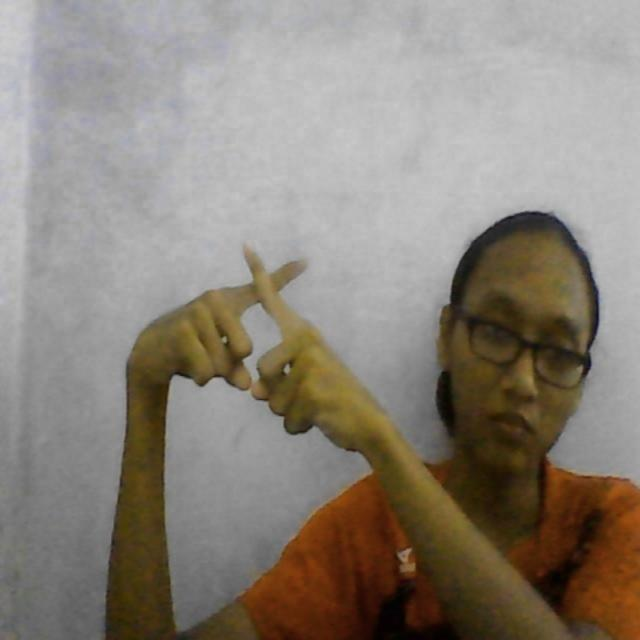X: (140, 233, 352, 405)
